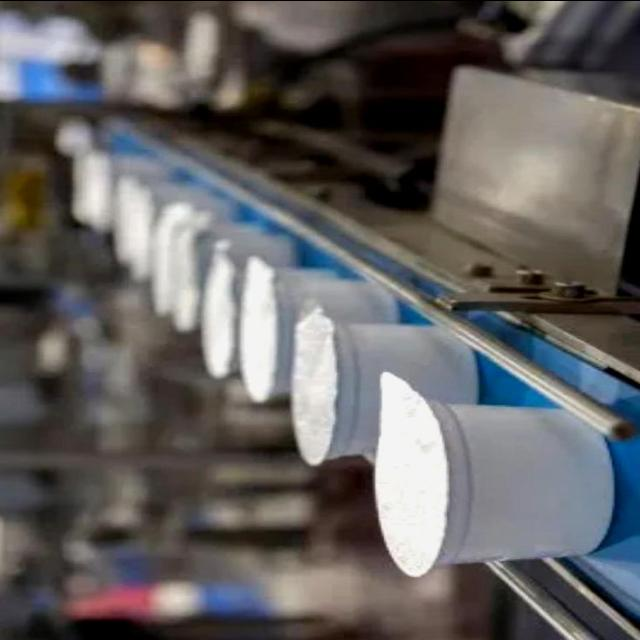food: (370, 370, 618, 578), (288, 306, 482, 466)
